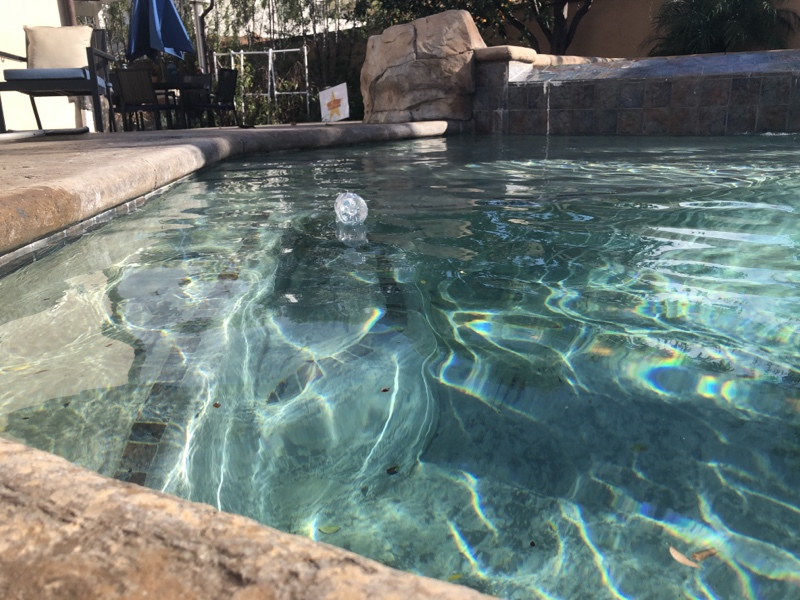Plastic Bottle: (331, 189, 369, 230)
